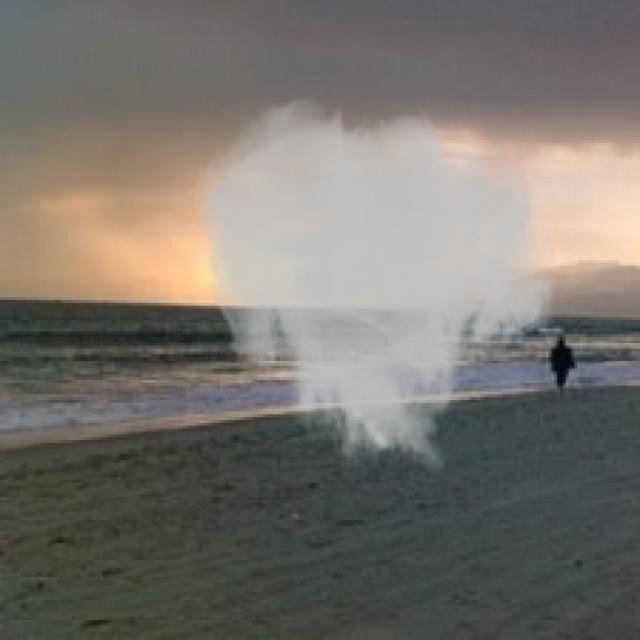smoke: (191, 94, 560, 477)
